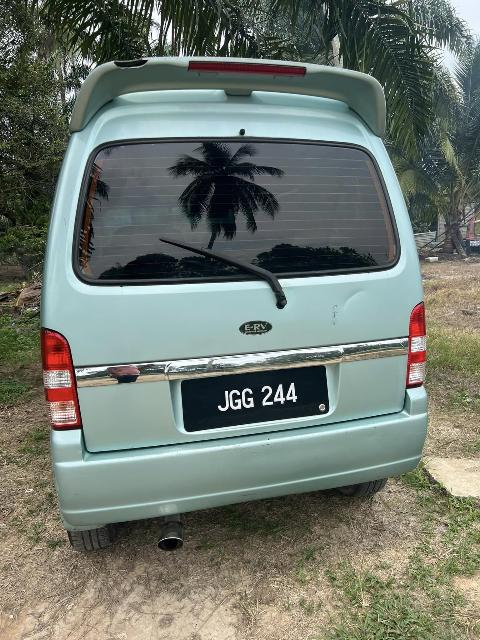License_Plate: (205, 378, 324, 419)
van: (35, 45, 435, 555)
